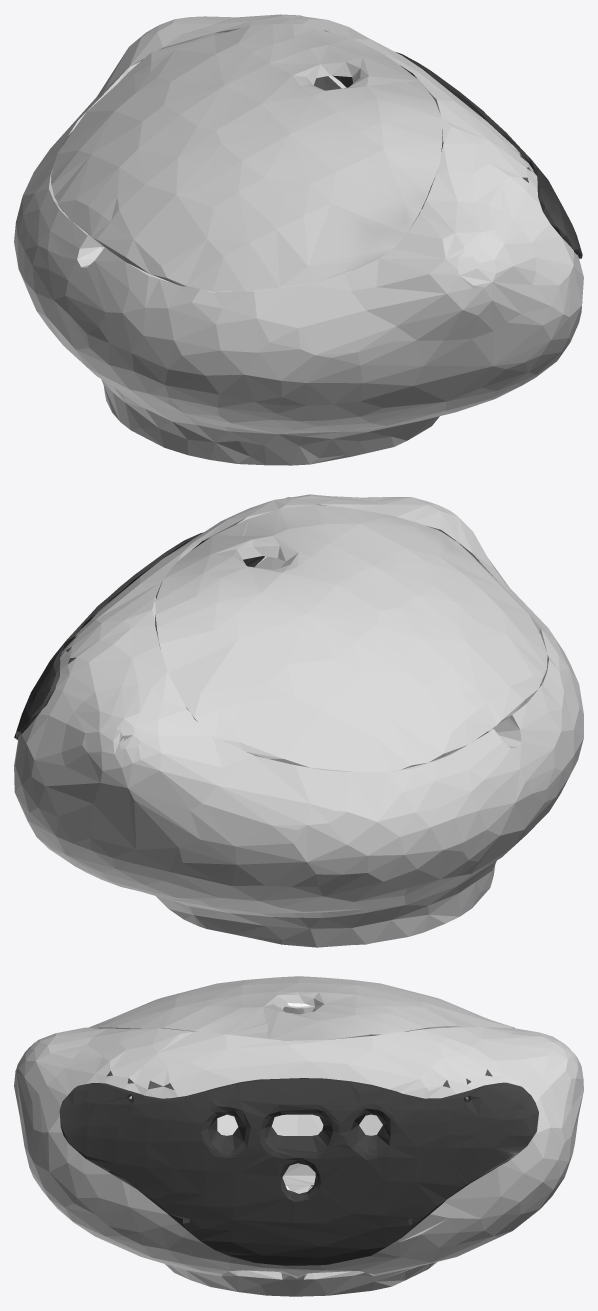
File: mbot_head.dae
3 views of the same model, one above another, from view 1: azimuth 30°, elevation 25°; view 2: azimuth 150°, elevation 25°; view 3: azimuth 270°, elevation 25° (orthographic). The views are drawn at different scales.
Visible parts, largest first — view 1: node_001; view 2: node_001; view 3: node_001.
Part boxes in pixels (x1,y1,x2,y2): node_001: (14,14,583,465); node_001: (14,494,583,947); node_001: (14,976,583,1296).
Bounding box in the file's own units: 0.366 × 0.5084 × 0.257.
1 material, 1 textured.
